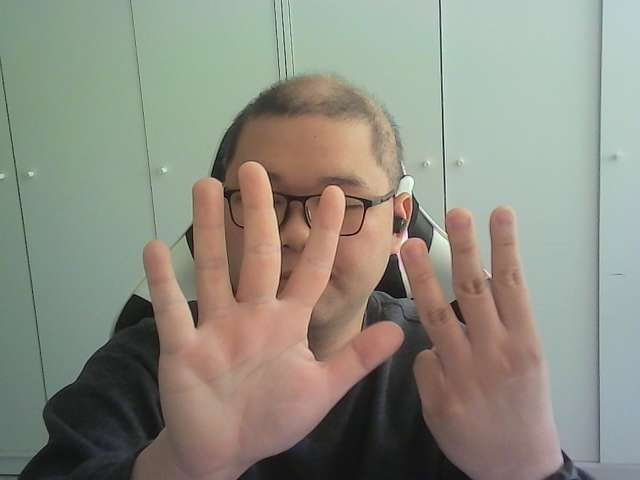Eight: (143, 161, 562, 456)
